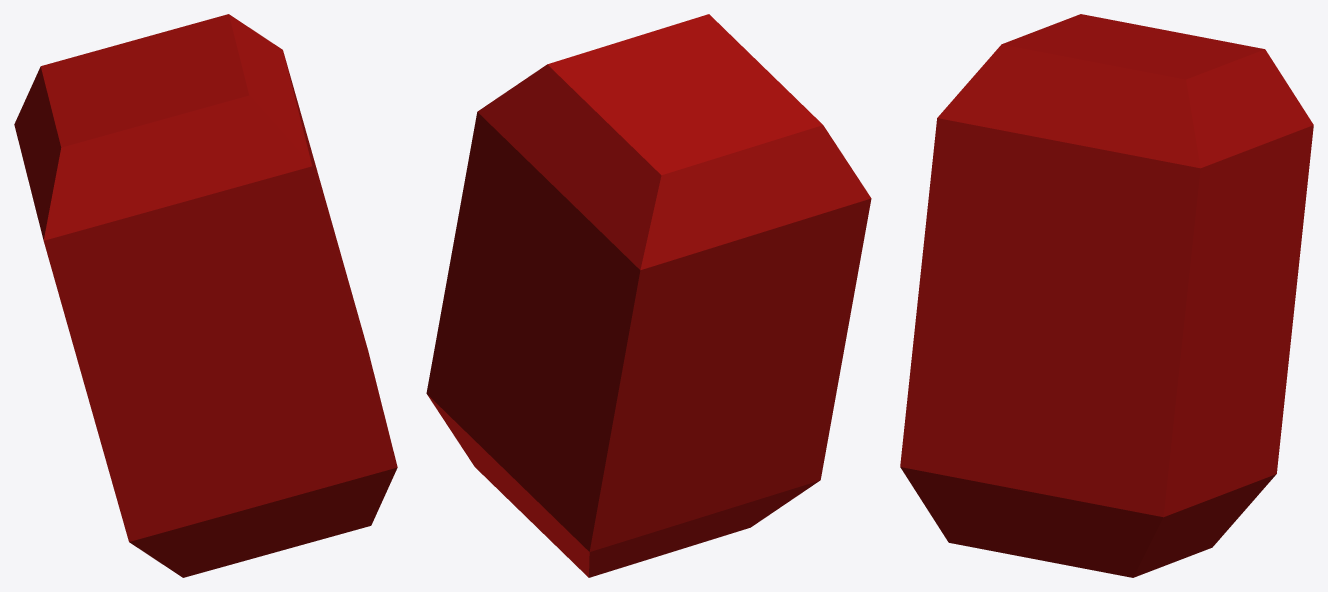
The model's file is town_jewel0006.obj.
3 renders of one model, left to right at view 1: azimuth 30°, elevation 25°; view 2: azimuth 150°, elevation 25°; view 3: azimuth 270°, elevation 25°, orthographic. The views are drawn at different scales.
Parts seen in each view (by area): view 1: RedJewel; view 2: RedJewel; view 3: RedJewel.
Part boxes in pixels (x1,y1,x2,y2): RedJewel: (14, 14, 397, 577); RedJewel: (426, 14, 871, 577); RedJewel: (900, 14, 1313, 577).
Size of the model in its own units: 1.01 by 1.21 by 0.9184.
